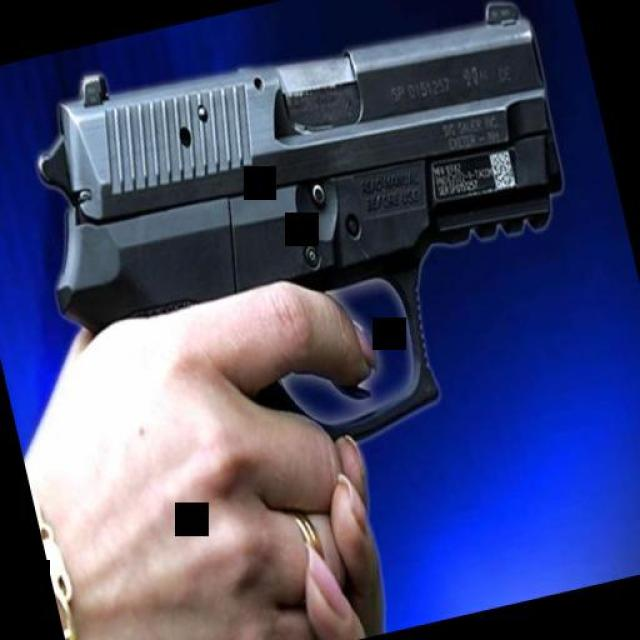gun: (0, 0, 612, 506)
